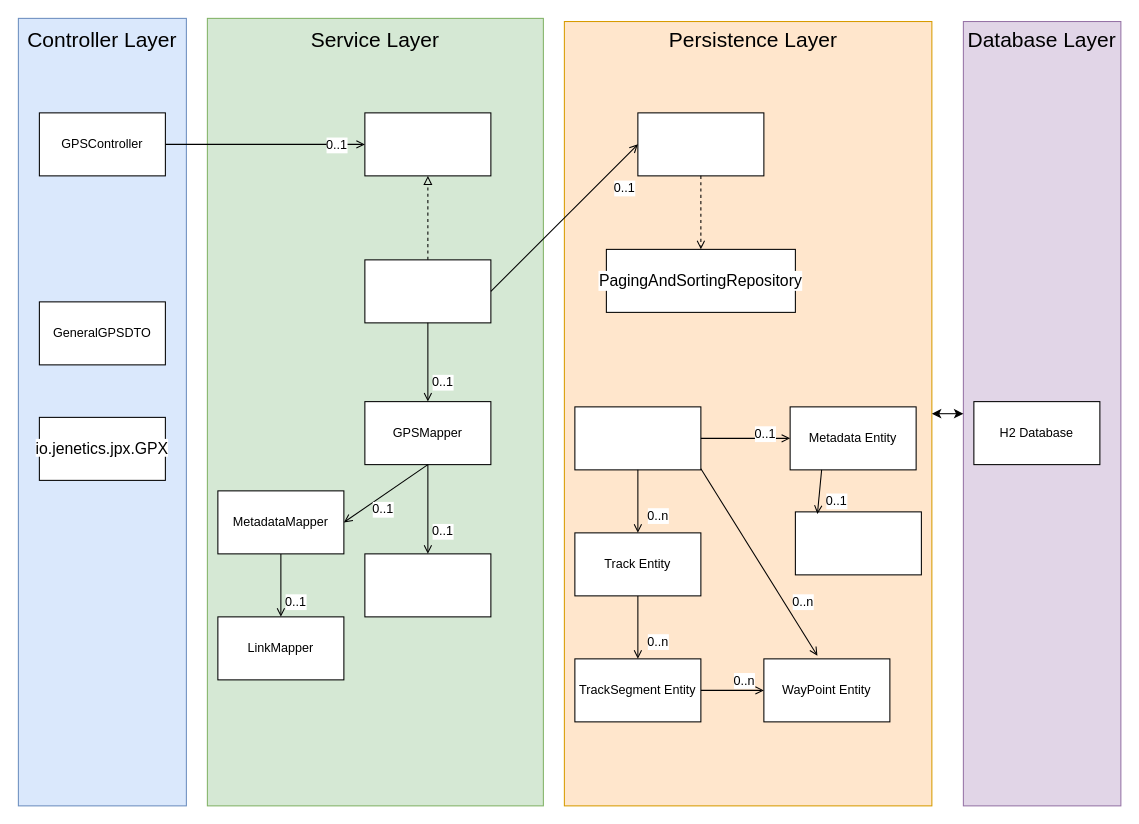
Some shapes in this 1139 by 824 pixel diagram are drawn without their labels. Here are the shapes that lost their labels. From the top down, the centre of each, then its label:
the point at 427,144: IGPSService
the point at 700,144: IGPSRepository
the point at 427,291: GPSServiceImpl
the point at 637,438: GPS Entity
the point at 857,543: Link Entity
the point at 427,585: WayPointMapper
